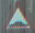Speed Breaker ahead: (2, 2, 32, 30)
